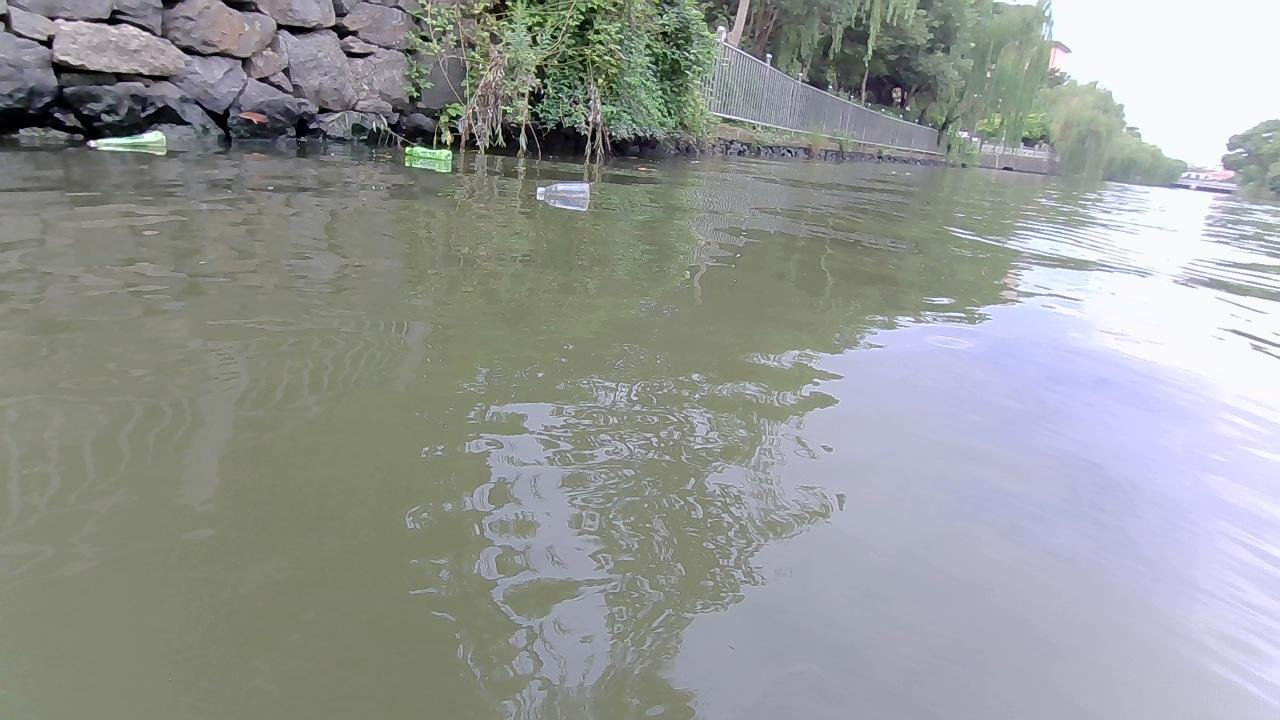bottle: (83, 129, 166, 148), (535, 182, 590, 199), (404, 144, 452, 160)
